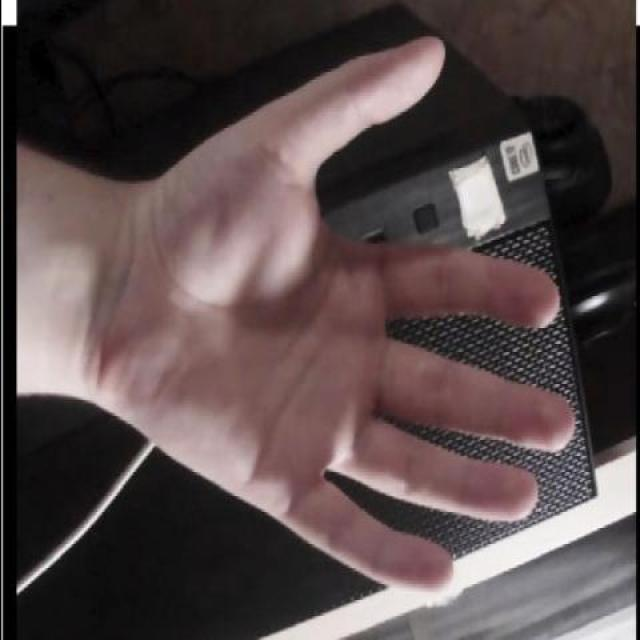Open Hand: (98, 33, 575, 603)
